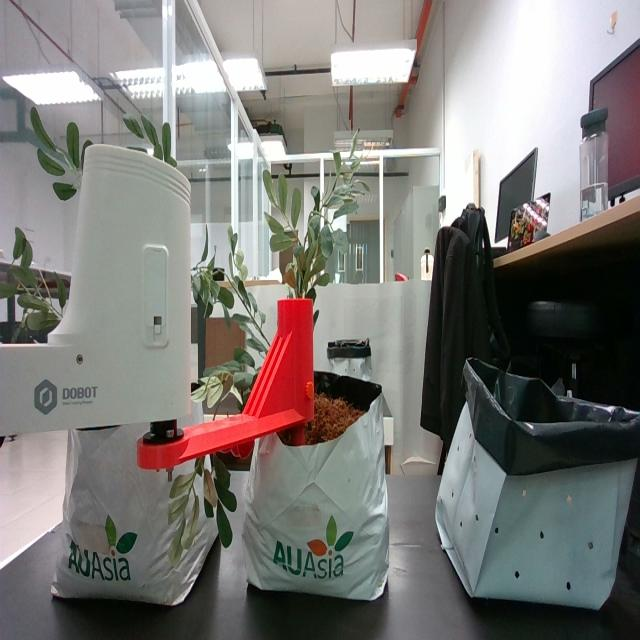EndEffector: (0, 155, 316, 472)
Soilbag: (238, 374, 392, 604), (52, 424, 220, 609)
plant: (151, 120, 375, 580)
